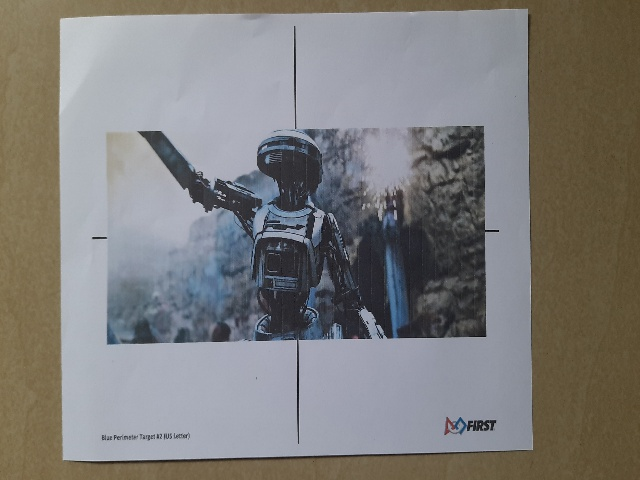bpt2: (71, 81, 525, 451)
